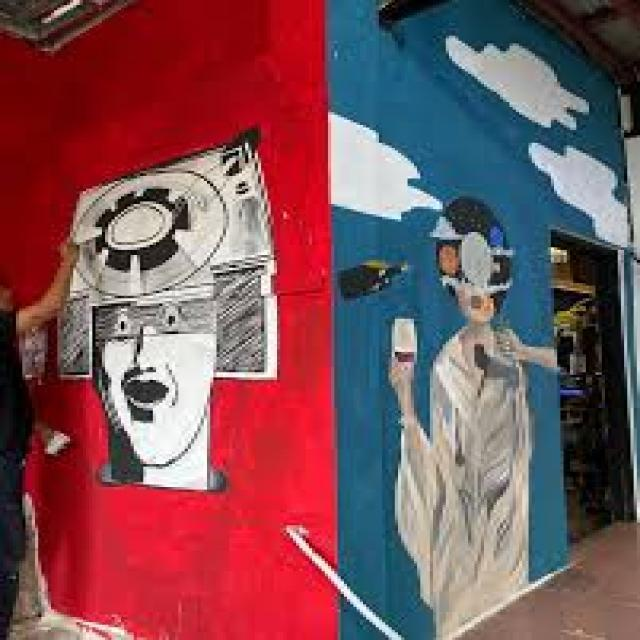-: (53, 128, 278, 496), (393, 191, 532, 637)
